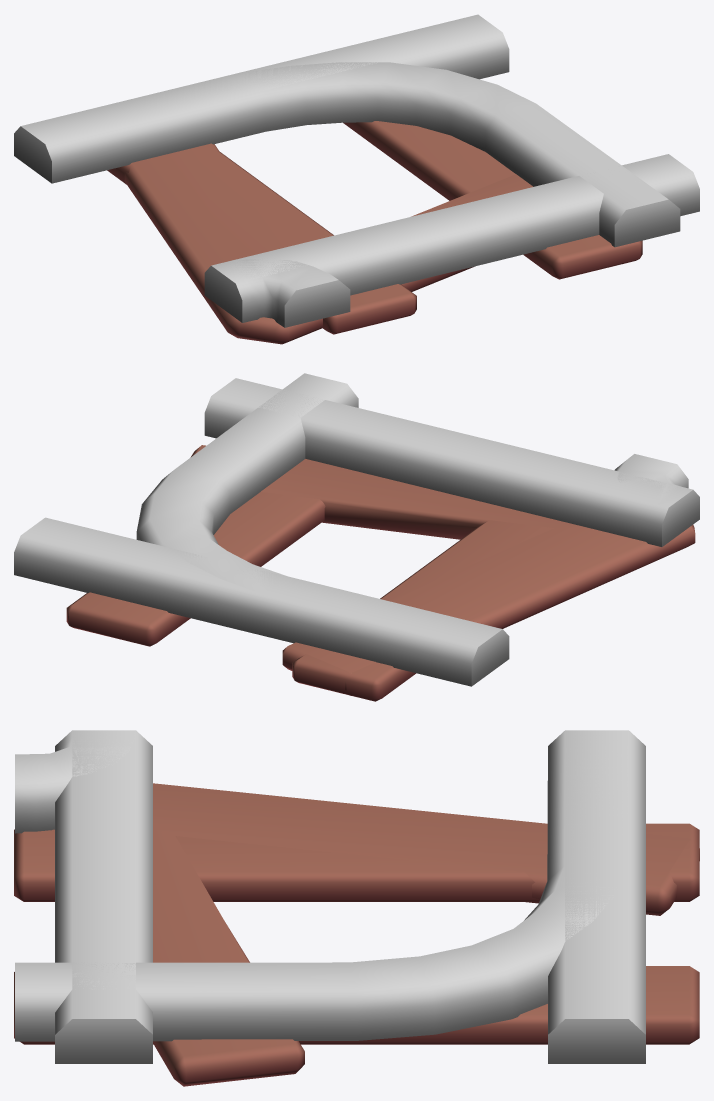
Rendered from Train_Track.fbx.
3 views of the same model, one above another, from view 1: azimuth 30°, elevation 25°; view 2: azimuth 150°, elevation 25°; view 3: azimuth 270°, elevation 25° (orthographic). The views are drawn at different scales.
Visible parts, largest first — view 1: TurnTrack, StraightTrack; view 2: StraightTrack, TurnTrack; view 3: StraightTrack, TurnTrack.
Boxes of the visible parts, bbox=[...] form: TurnTrack: bbox=[14, 62, 680, 344]; StraightTrack: bbox=[14, 14, 699, 334]; StraightTrack: bbox=[14, 378, 699, 701]; TurnTrack: bbox=[136, 373, 695, 695]; StraightTrack: bbox=[14, 730, 699, 1063]; TurnTrack: bbox=[15, 730, 699, 1086].
Size of the model in its own units: 146 by 17.05 by 145.
1 material, 1 textured.
